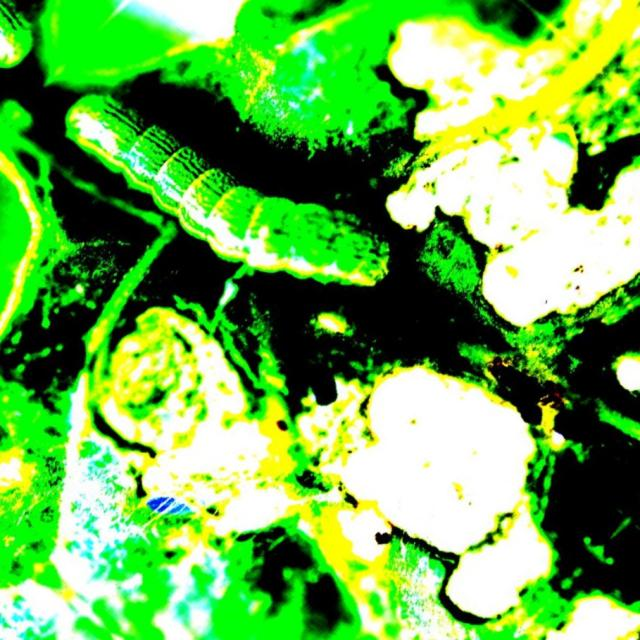Armyworm: (42, 73, 412, 332)
